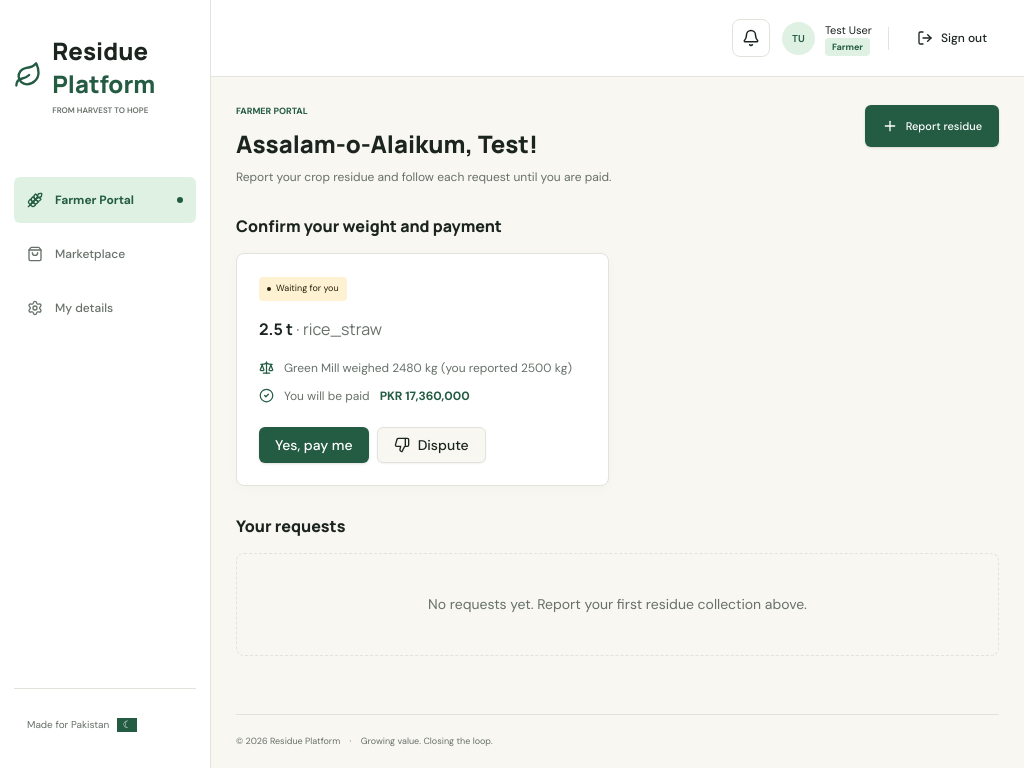
Test: farmer: confirm the weight and payment › yes releases the payment and says how much
What coordinates should you click on to do the following:
click the button "Yes, pay me"
I would click on:
 (314, 445)
Its box is [259,427,369,463].
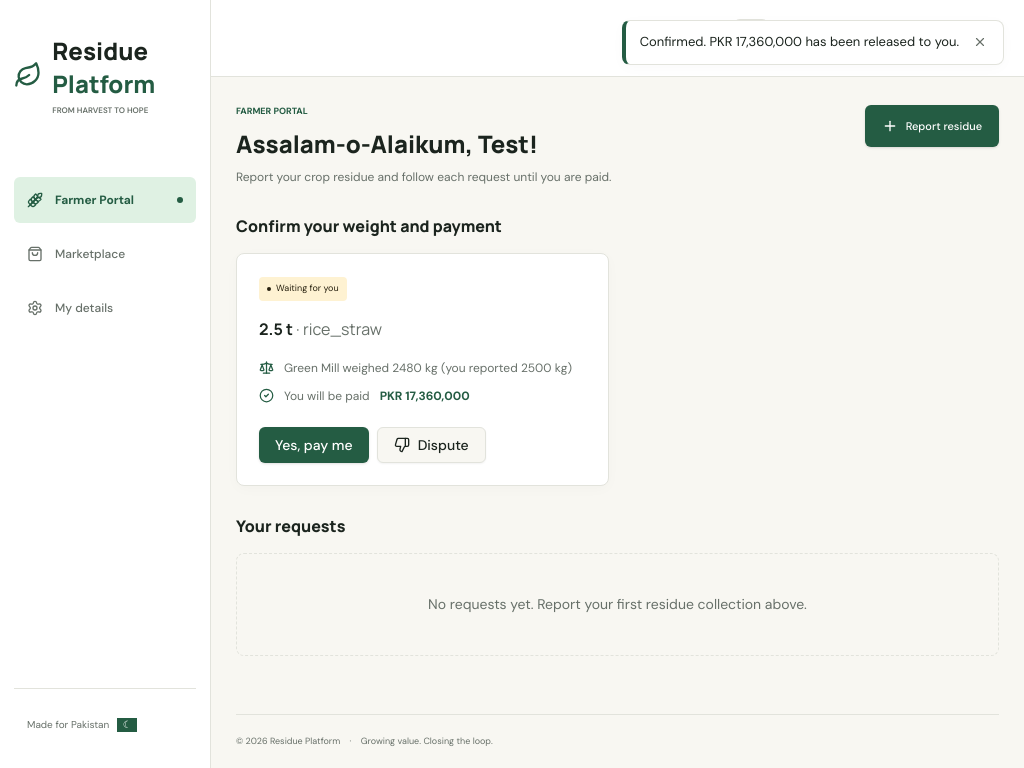
Now the text "Confirmed. PKR 17,360,000 has been released to you." is shown, box [640,33,959,52]
